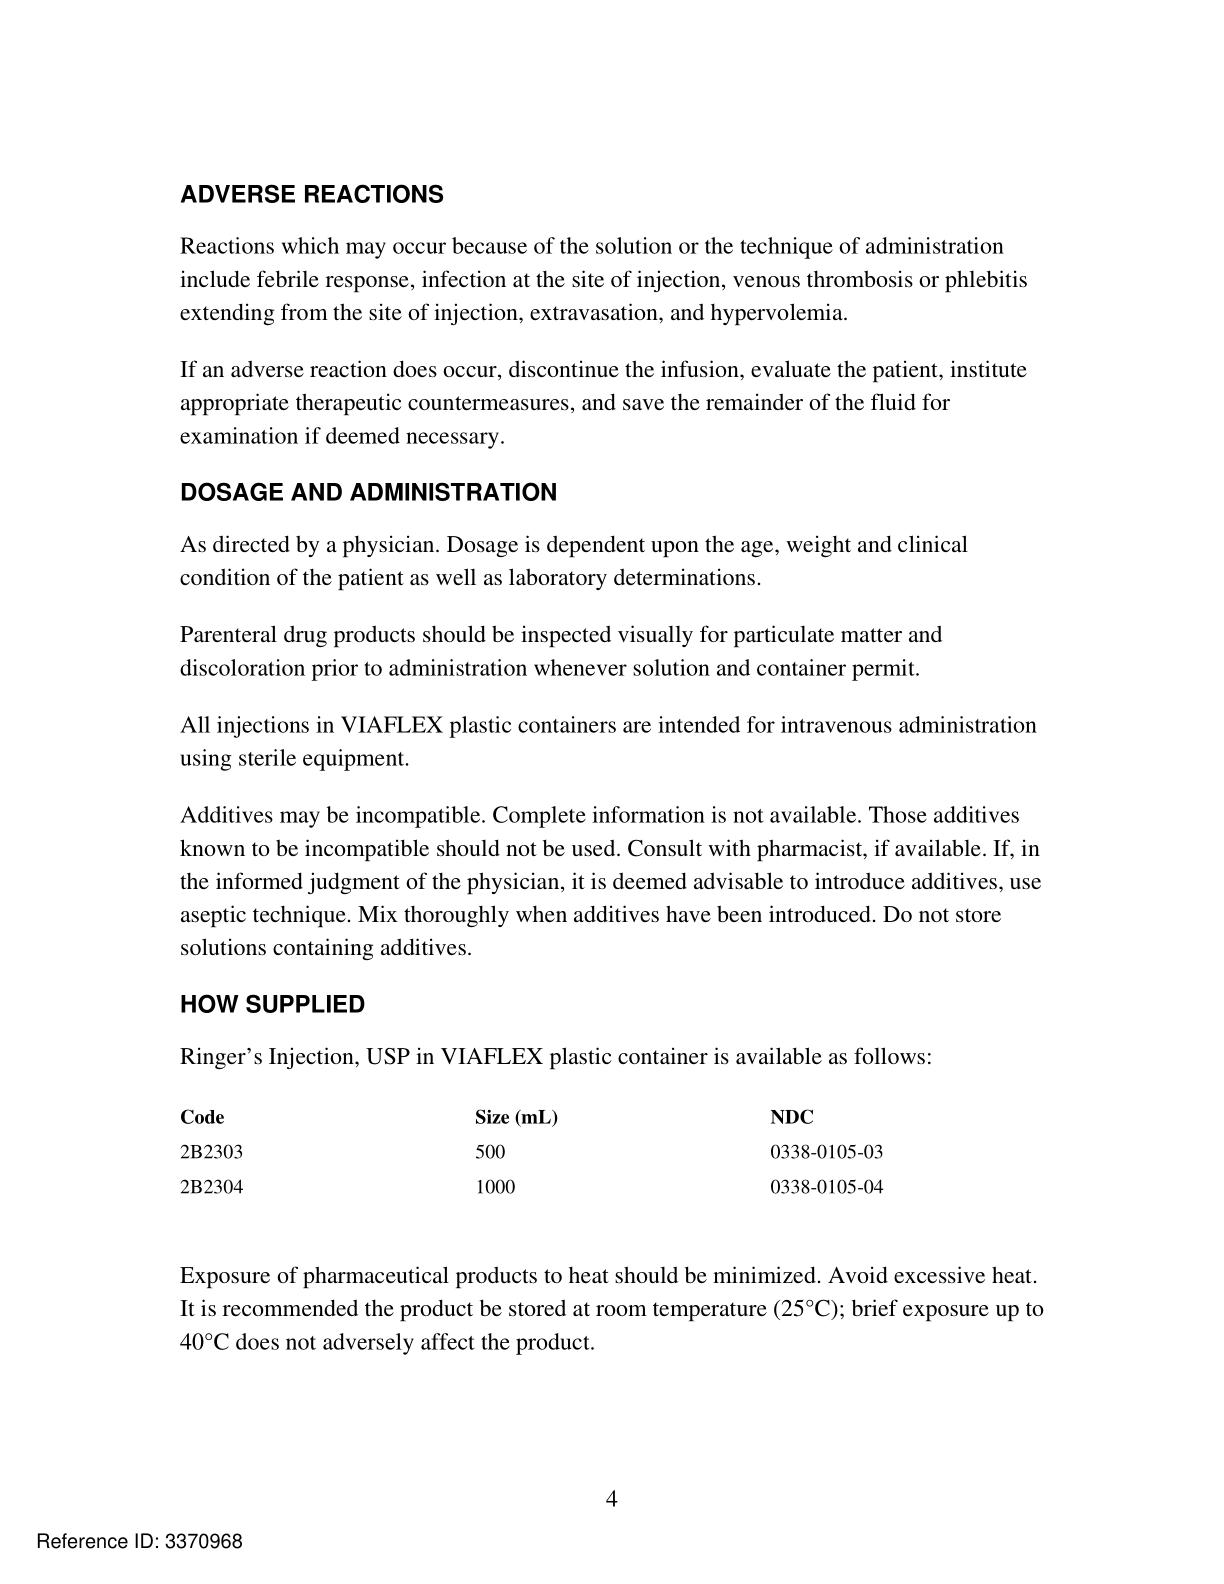nolines: (177, 1103, 887, 1200)
